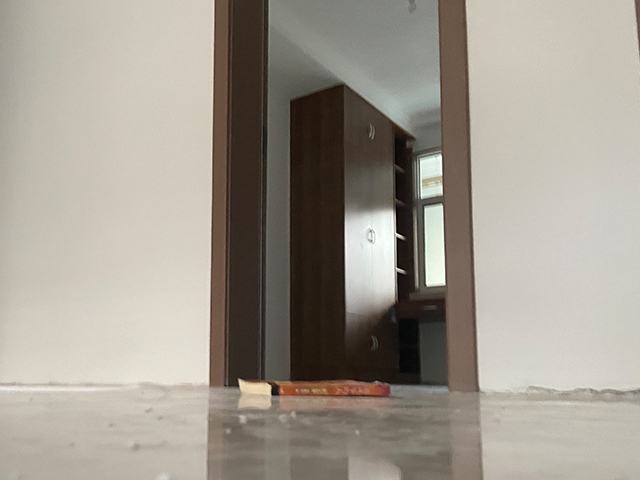book: (235, 377, 393, 399)
cabinet: (288, 80, 445, 385)
